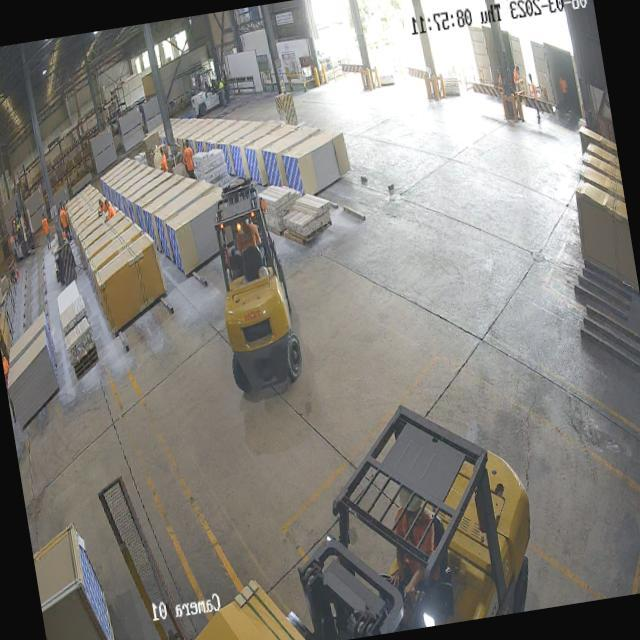driver: (376, 481, 446, 601), (232, 212, 262, 258)
forklift: (270, 379, 547, 640), (199, 166, 310, 410)
person: (182, 138, 196, 180), (40, 213, 51, 248), (59, 204, 70, 236), (528, 72, 538, 100), (158, 148, 168, 173), (106, 200, 115, 220), (512, 66, 522, 84)
